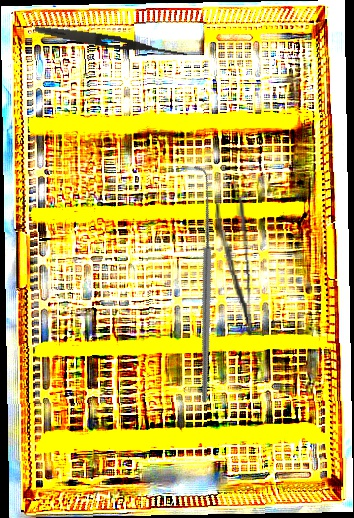Dressing Forceps: (214, 197, 255, 338), (33, 23, 189, 60)
Hook Surgical: (92, 164, 311, 405)
